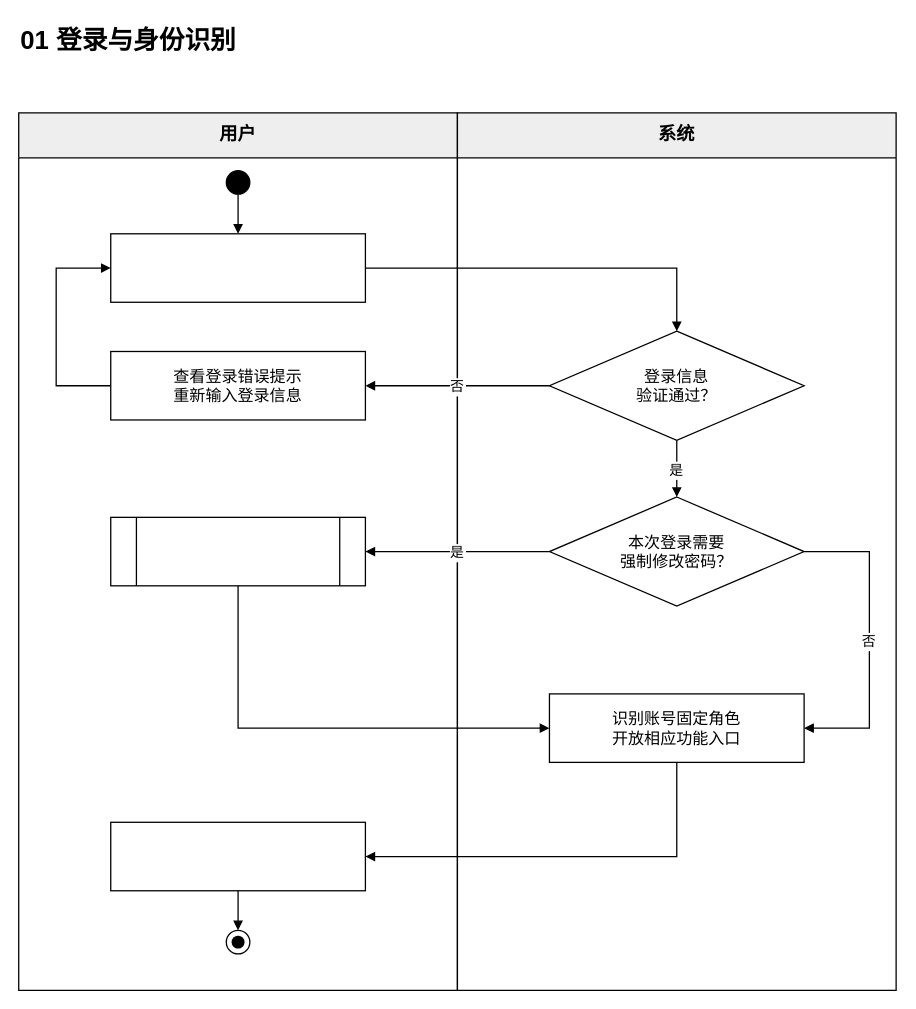
Image size: 916x1009. Some labels were removed from this diagram. The shapes that lost their labels are listed below. From the top down, each one's box as (x1, y1, x2, y2) in pixels, then its label:
(110, 233, 366, 302): 输入登录标识和密码
(110, 516, 366, 586): 完成密码修改 见图03
(110, 821, 366, 891): 进入获准使用的功能
